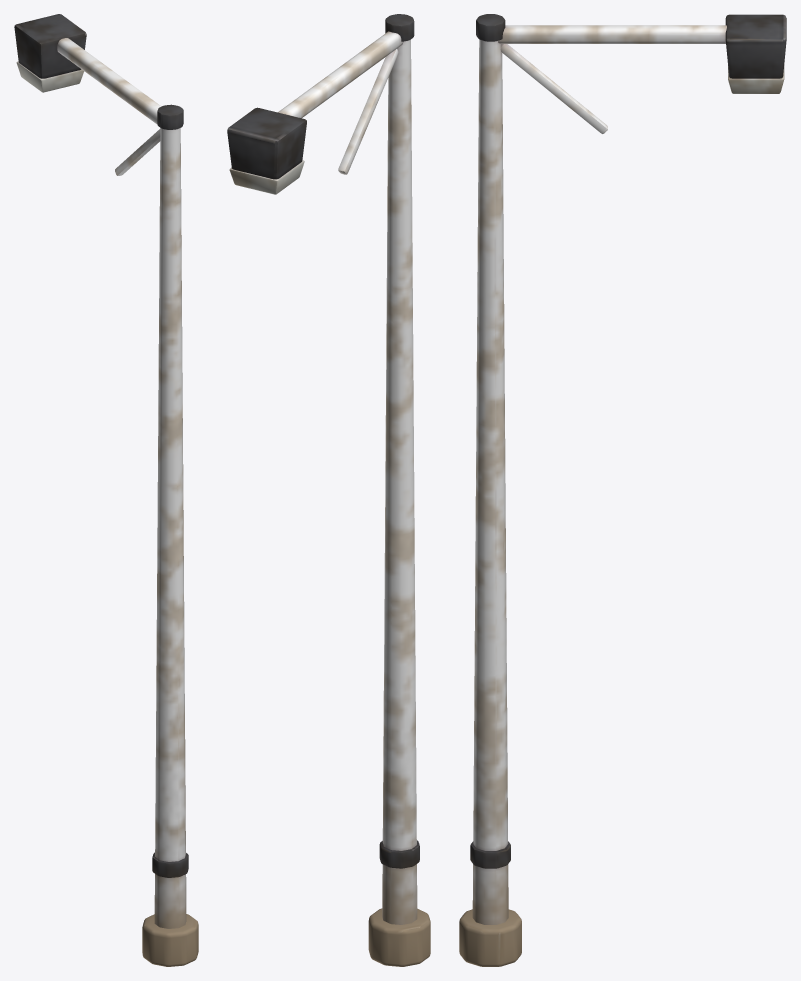
File: lamp_post.glb
3 views of the same model, side by side, from view 1: azimuth 30°, elevation 25°; view 2: azimuth 150°, elevation 25°; view 3: azimuth 270°, elevation 25° (orthographic). The views are drawn at different scales.
Visible parts, largest first — view 1: LampPost; view 2: LampPost; view 3: LampPost.
Part boxes in pixels (x1,y1,x2,y2): LampPost: (14, 14, 198, 966); LampPost: (227, 14, 430, 966); LampPost: (459, 14, 786, 966).
Size of the model in its own units: 0.3234 by 5.45 by 1.73.
2 materials, 2 textured.
